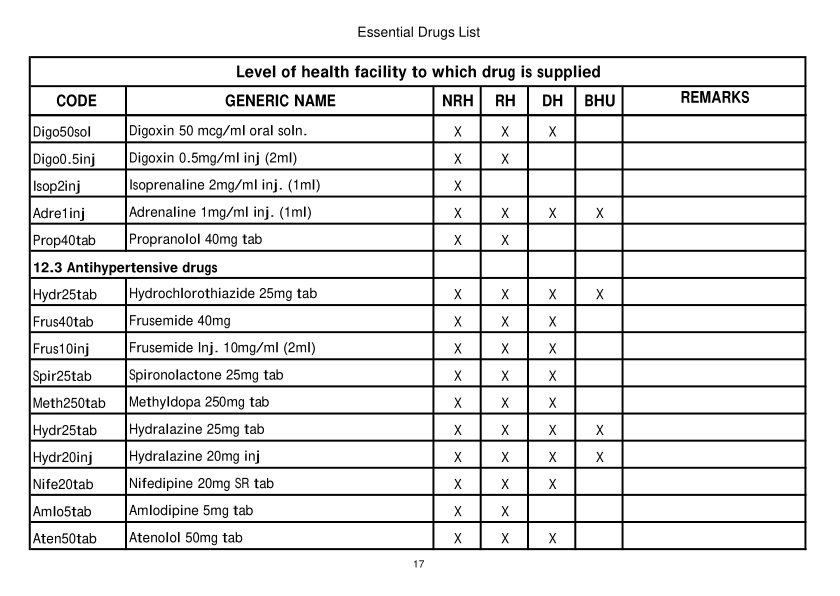merged_cells: (28, 56, 807, 551)
